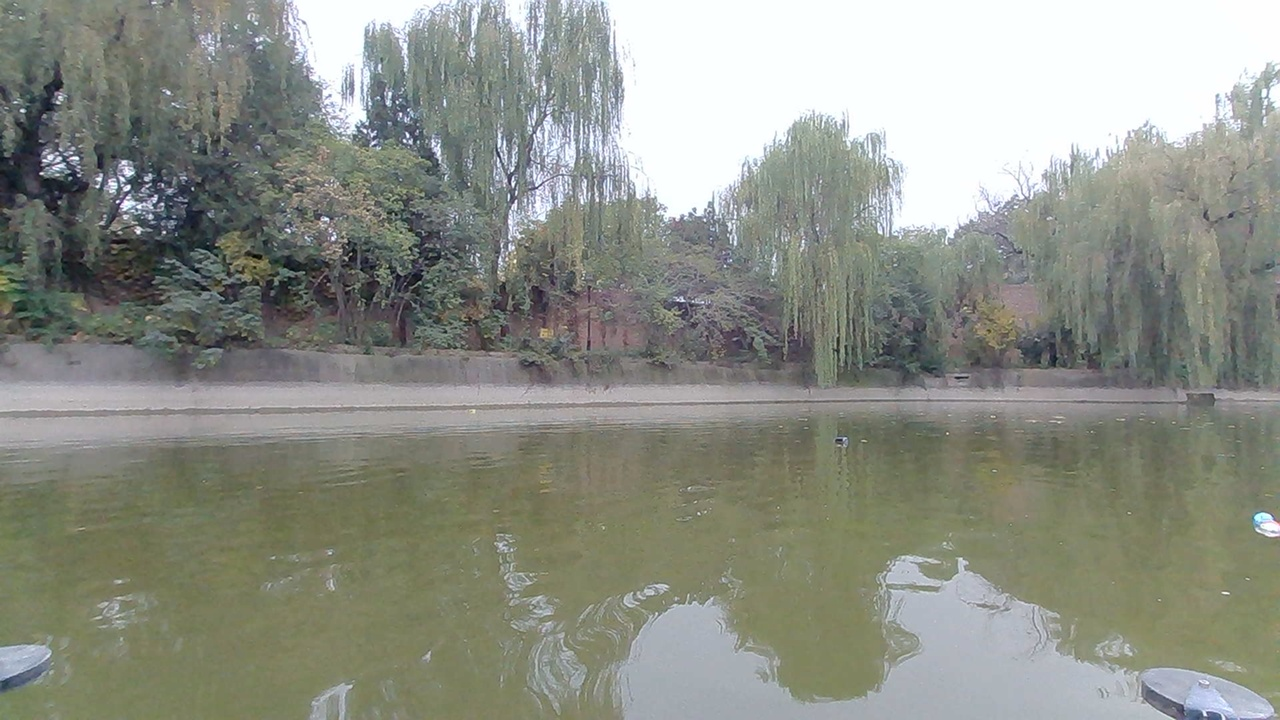bottle: (1251, 505, 1280, 548), (820, 424, 848, 450)
